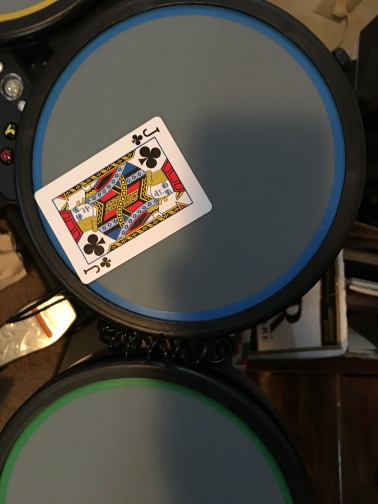jack: (33, 113, 213, 285)
